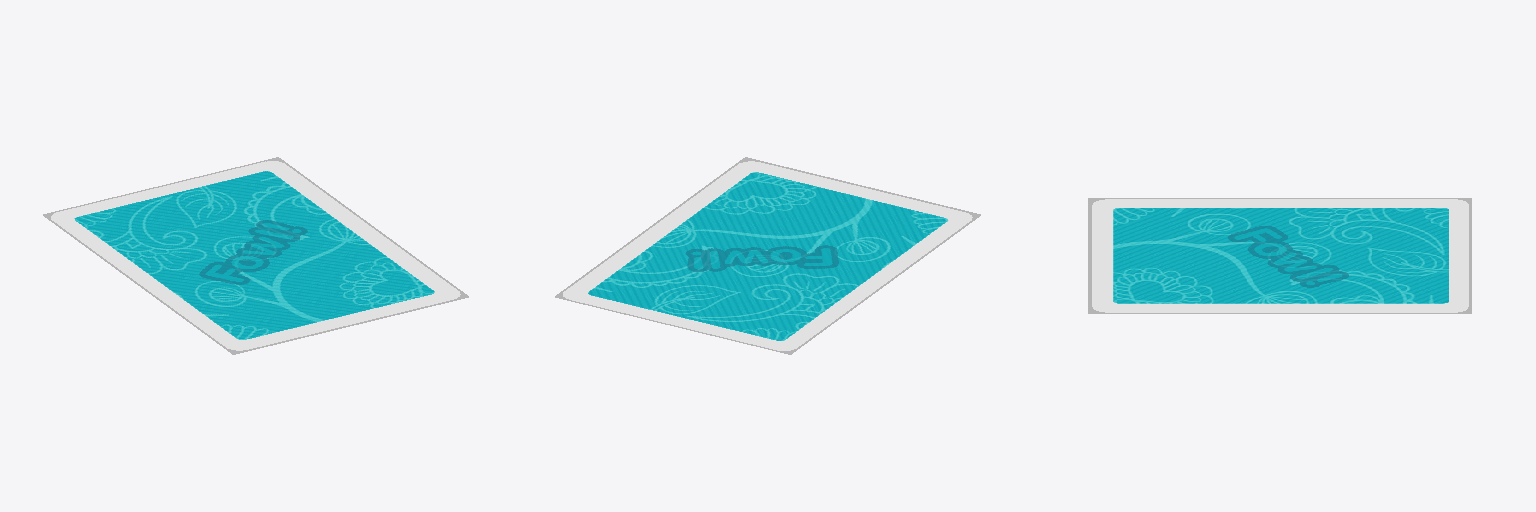
The picture shows the model from 3 angles: view 1: azimuth 30°, elevation 25°; view 2: azimuth 150°, elevation 25°; view 3: azimuth 270°, elevation 25°; orthographic projection.
Visible parts, largest first — view 1: Plane_Plane.002; view 2: Plane_Plane.002; view 3: Plane_Plane.002.
Part boxes in pixels (bbox=[...]): Plane_Plane.002: bbox=[43, 157, 468, 354]; Plane_Plane.002: bbox=[555, 157, 980, 354]; Plane_Plane.002: bbox=[1088, 198, 1471, 313].
Bounding box in the file's own units: 2 × 0.0001 × 2.8.
Materials: 2 (1 with a texture image).